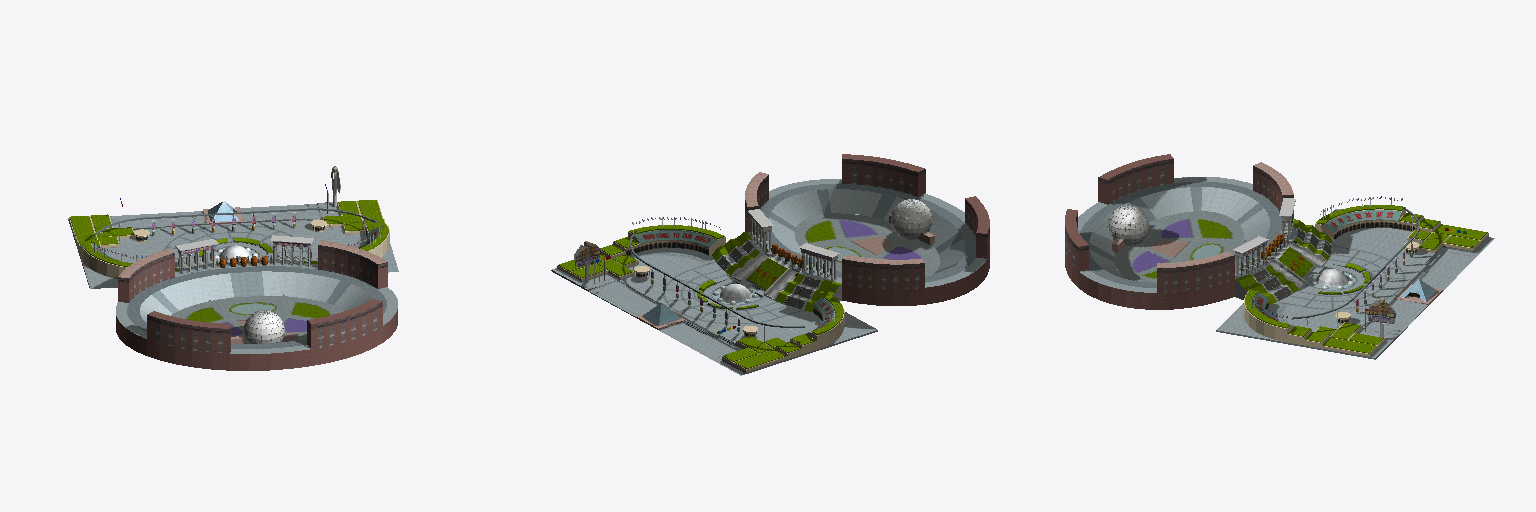
3 renders of one model, left to right at view 1: azimuth 30°, elevation 25°; view 2: azimuth 150°, elevation 25°; view 3: azimuth 270°, elevation 25°, orthographic.
Visible parts, largest first — view 1: Material__202659, Material__202655, Material__202656, Material__202658, Material__202657; view 2: Material__202659, Material__202655, Material__202656, Material__202658, Material__202657; view 3: Material__202659, Material__202655, Material__202656, Material__202658, Material__202657.
Part boxes in pixels (bbox=[...]): Material__202659: bbox=[116, 240, 397, 370]; Material__202655: bbox=[68, 201, 398, 288]; Material__202656: bbox=[69, 200, 389, 278]; Material__202658: bbox=[175, 235, 313, 273]; Material__202657: bbox=[93, 166, 376, 247]; Material__202659: bbox=[712, 154, 989, 311]; Material__202655: bbox=[551, 225, 877, 375]; Material__202656: bbox=[557, 225, 844, 371]; Material__202658: bbox=[748, 209, 839, 280]; Material__202657: bbox=[574, 230, 804, 340]; Material__202659: bbox=[1065, 154, 1331, 309]; Material__202655: bbox=[1216, 209, 1494, 359]; Material__202656: bbox=[1244, 205, 1488, 356]; Material__202658: bbox=[1233, 198, 1295, 275]; Material__202657: bbox=[1292, 208, 1466, 337].
Size of the model in its own units: 208 by 25.8 by 230.
Materials: 6 (6 with a texture image).